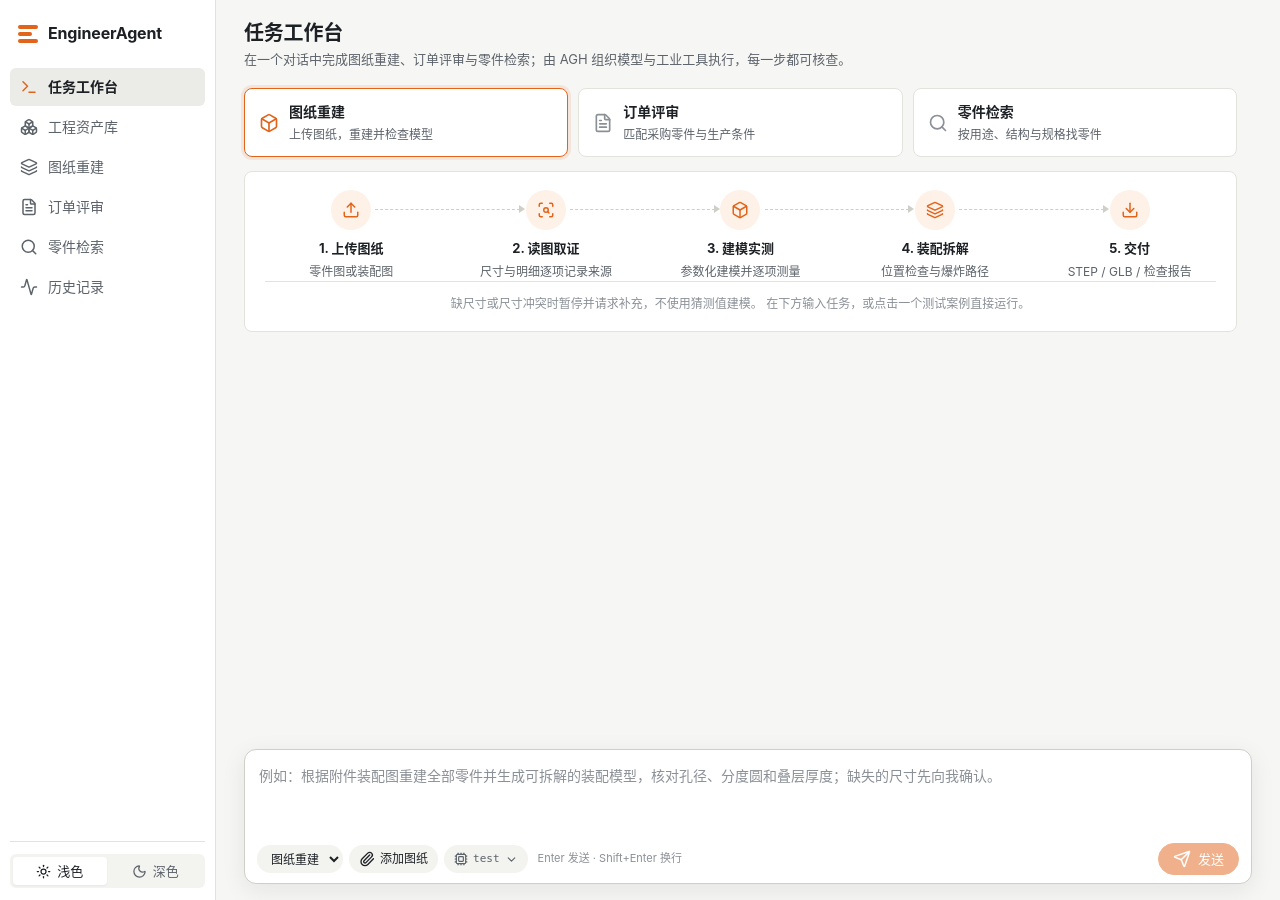
Scenario: keeps a pending submission alive across navigation and receives its task id in the background
The image size is (1280, 900).
Select "零件检索" in the dropdown named "任务类型" at {"x": 300, "y": 859}, box [257,845,343,873]
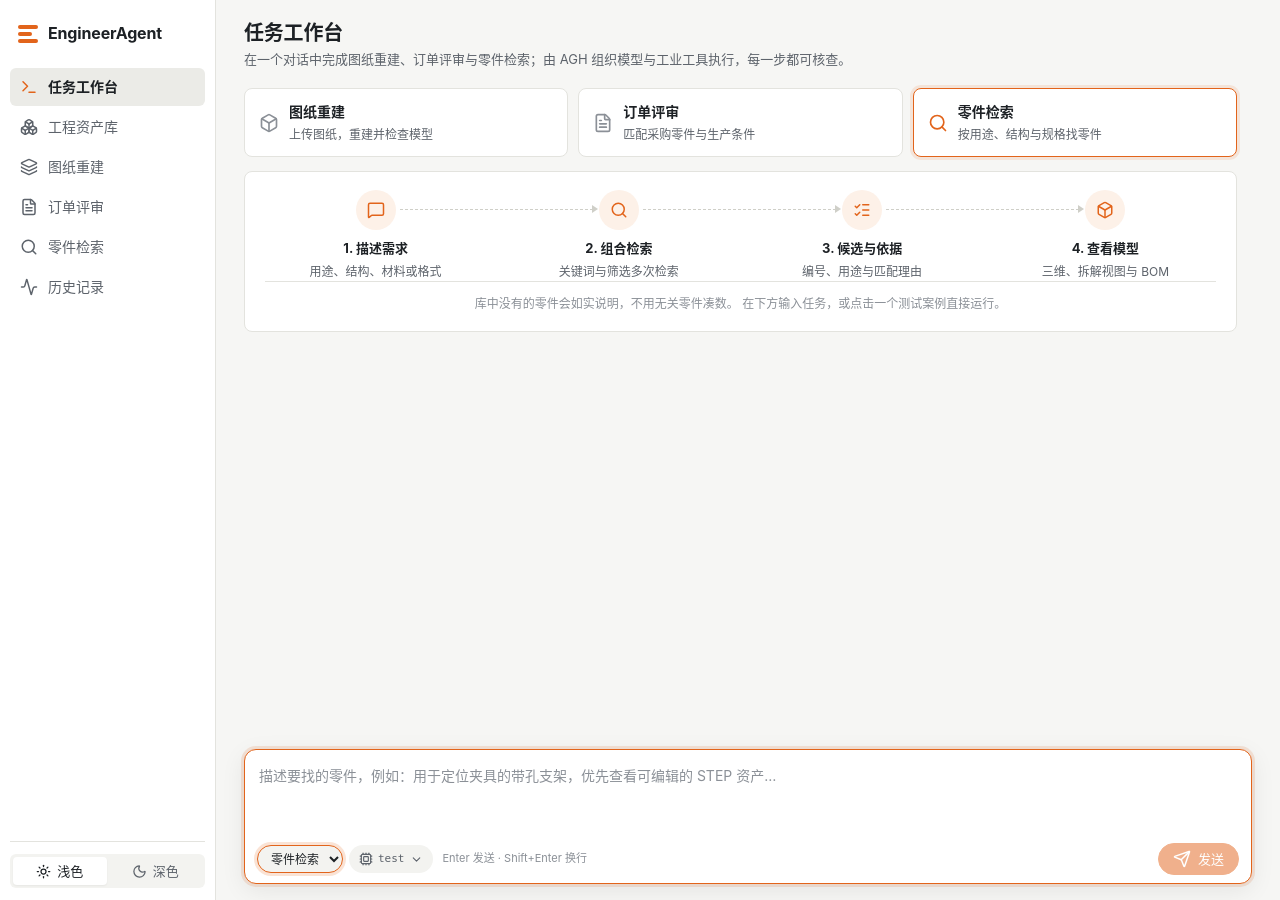
Type "工作台中的定位支架检索" into the text box named "这次需要完成什么？" at {"x": 748, "y": 798}, box [257,760,1239,837]
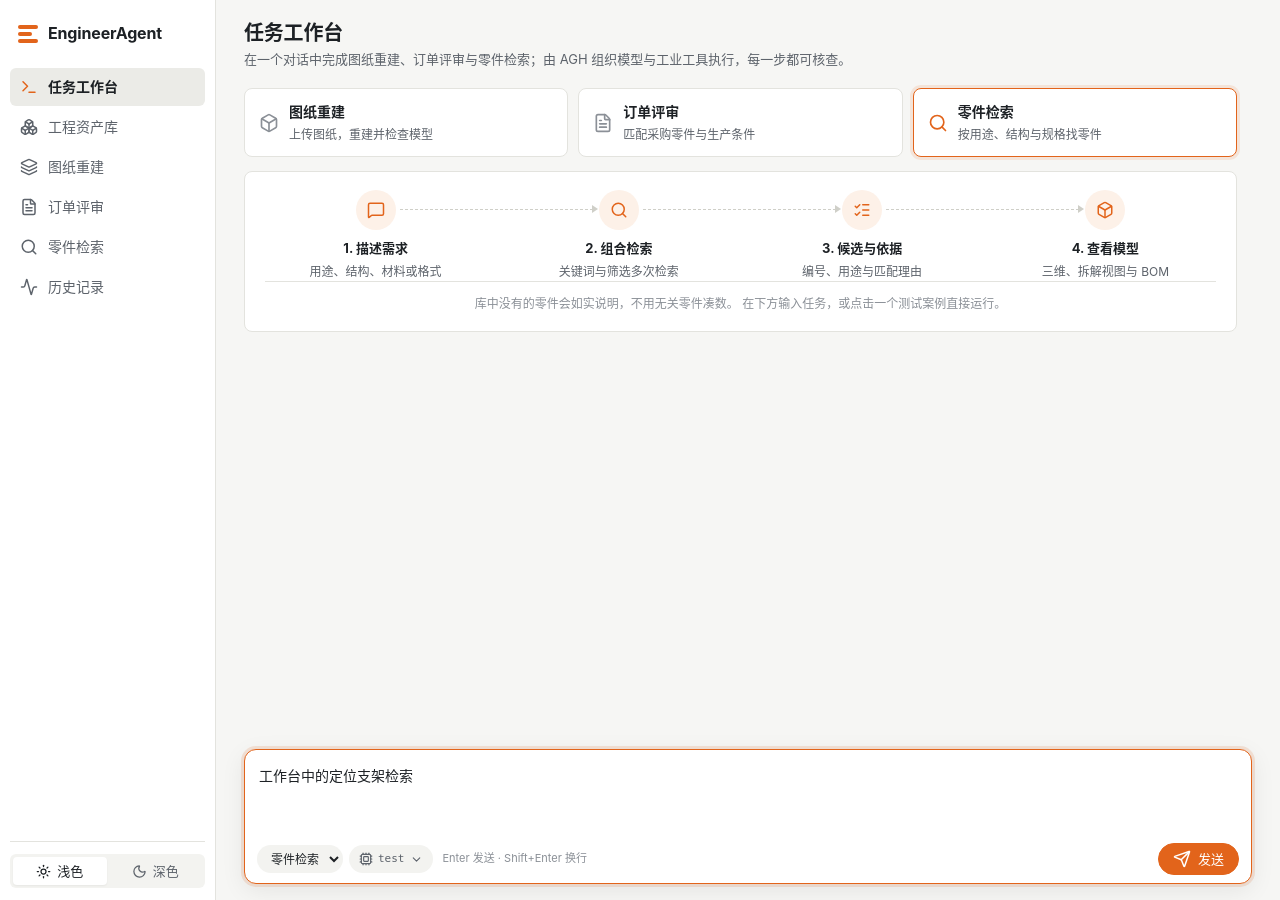
Click the button with aria-label "开始任务" at {"x": 1198, "y": 859}, box [1158,843,1239,875]
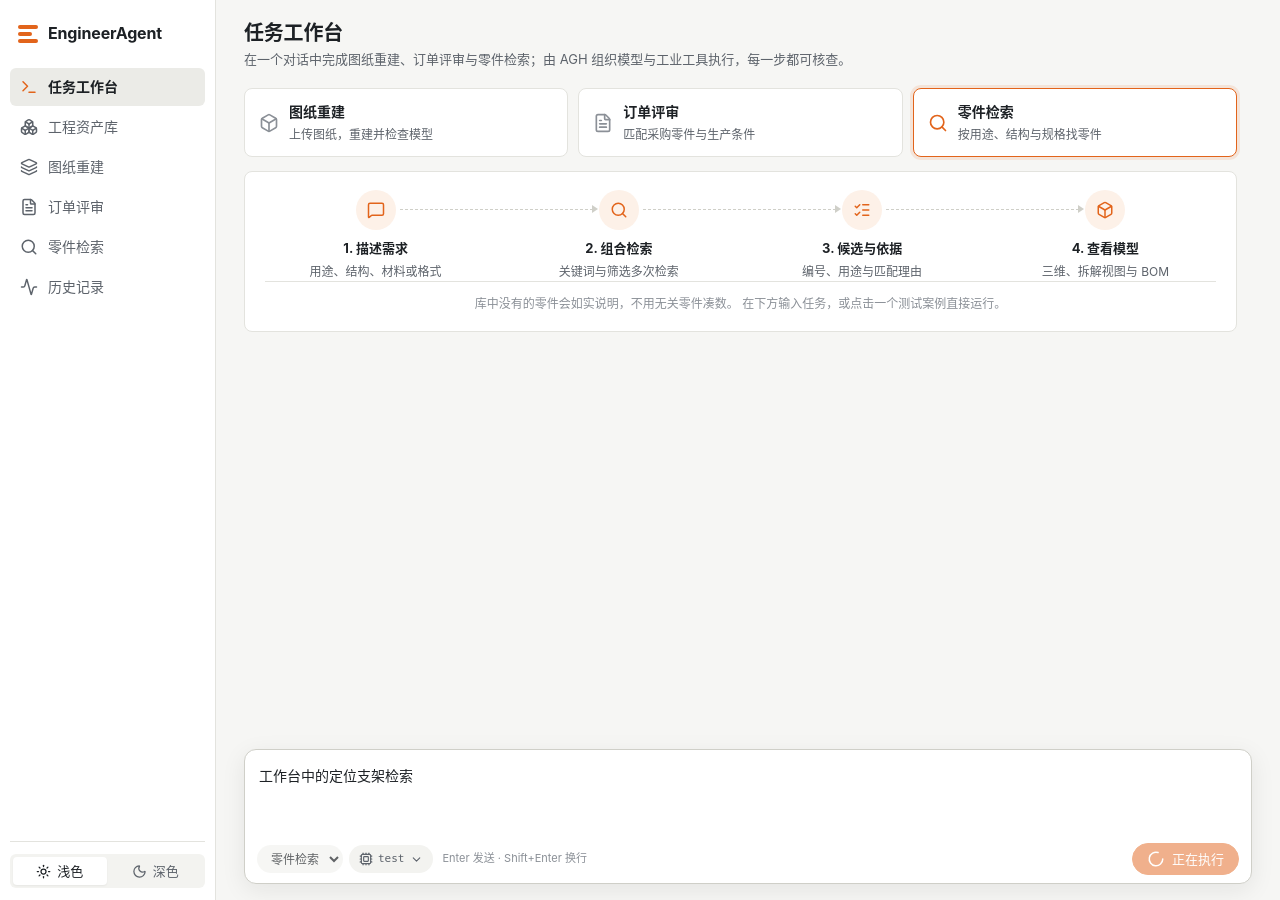
Click the button "工程资产库" at {"x": 108, "y": 127}, box [10,108,205,146]
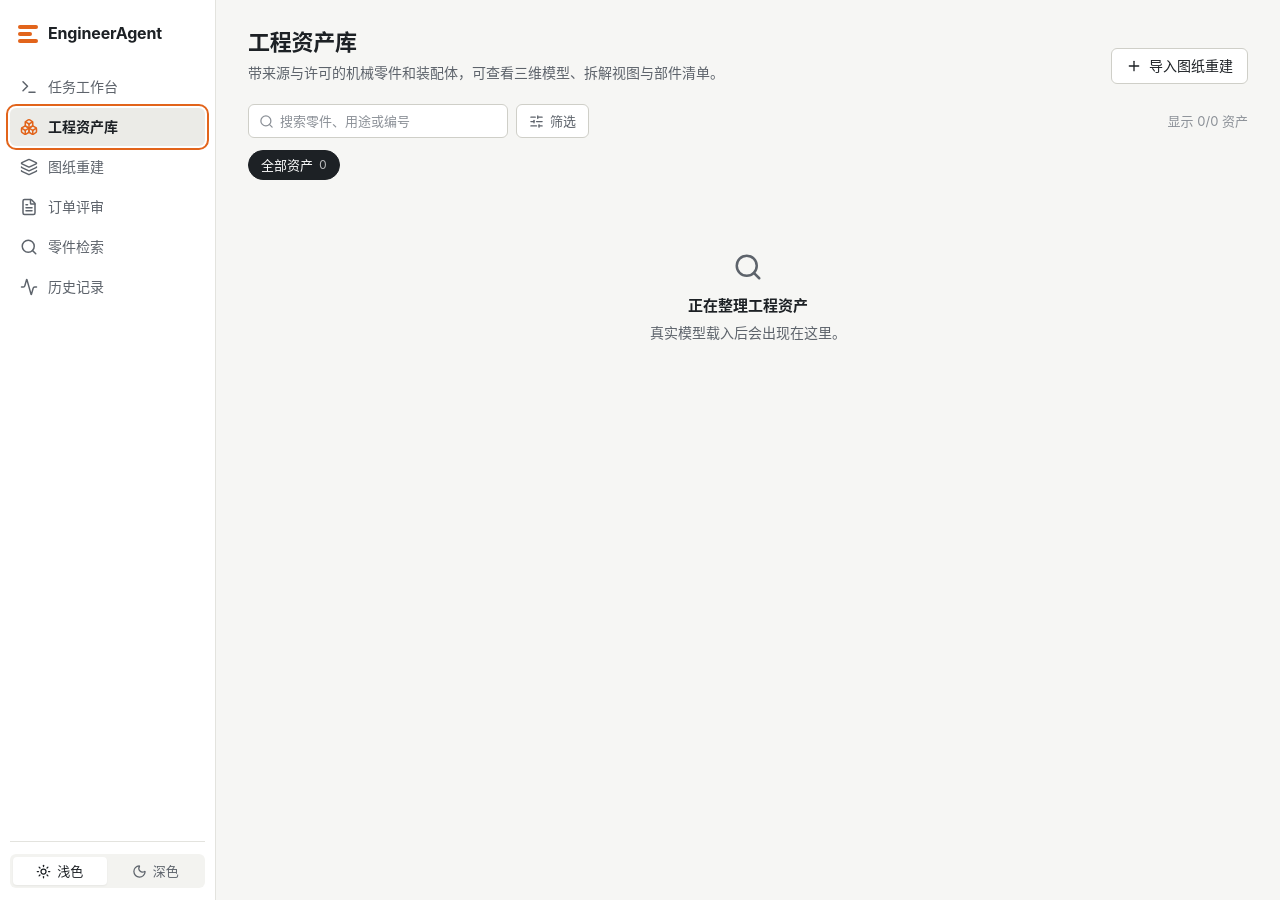
Click the button "任务工作台" at {"x": 108, "y": 87}, box [10,68,205,106]
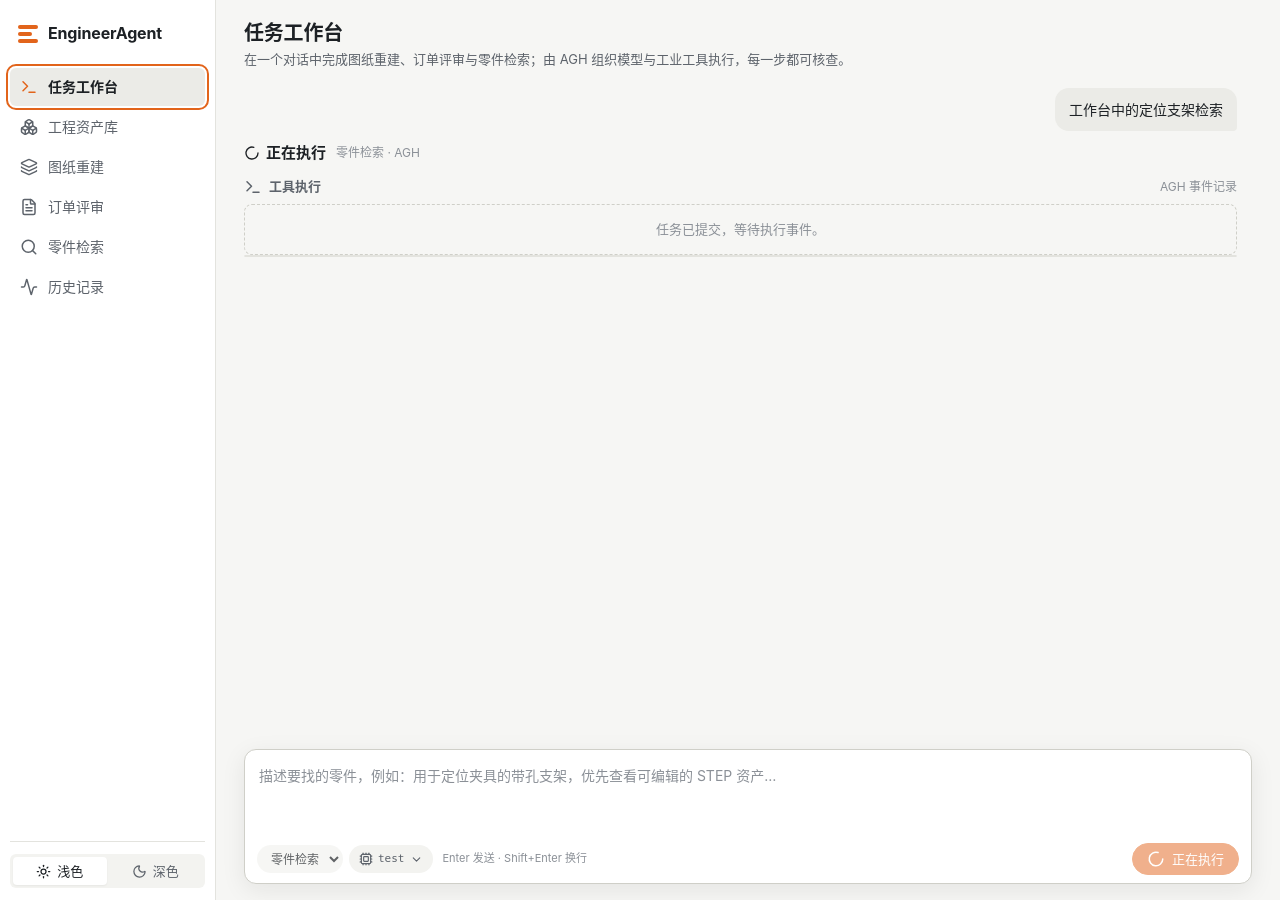
Result: the element named "对话记录" shows "工作台中的定位支架检索" at [1069,101,1223,118]
Result: the element named "本次任务记录" shows "正在执行" at [266,143,326,162]
